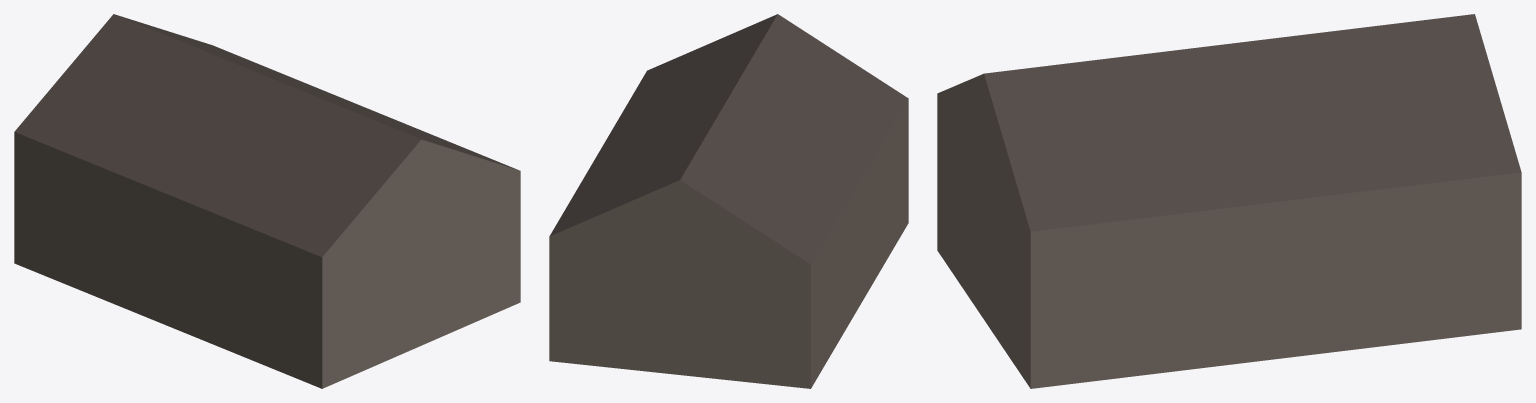
3 renders of one model, left to right at view 1: azimuth 30°, elevation 25°; view 2: azimuth 150°, elevation 25°; view 3: azimuth 270°, elevation 25°, orthographic. The views are drawn at different scales.
Parts seen in each view (by area): view 1: HP-w1376988790; view 2: HP-w1376988790; view 3: HP-w1376988790.
Part boxes in pixels (x1,y1,x2,y2): HP-w1376988790: (14,14,520,388); HP-w1376988790: (549,14,908,388); HP-w1376988790: (937,14,1521,388).
Size of the model in its own units: 16.21 by 9.4 by 20.21.
